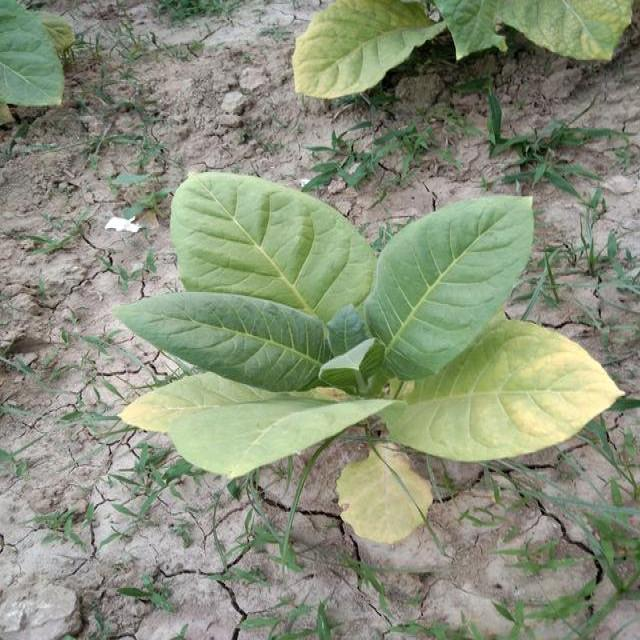crop: (136, 175, 619, 536), (304, 0, 626, 83)
